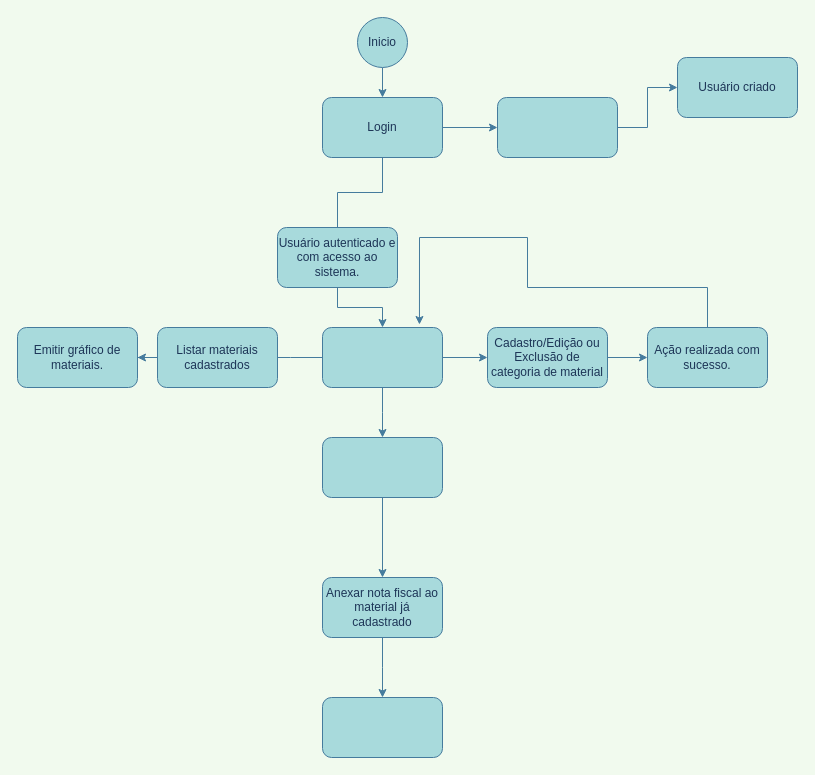
This 815x775 diagram has some shape labels left out. Here are the shapes that lost their labels. From the top down, the box of each, then its label:
(496, 96, 618, 158): Registro de usuário
(322, 326, 442, 388): Acesso ao menu principal do sistema.
(322, 436, 442, 498): Cadastrar novos materiais
(322, 696, 442, 758): Efetuar logout.
